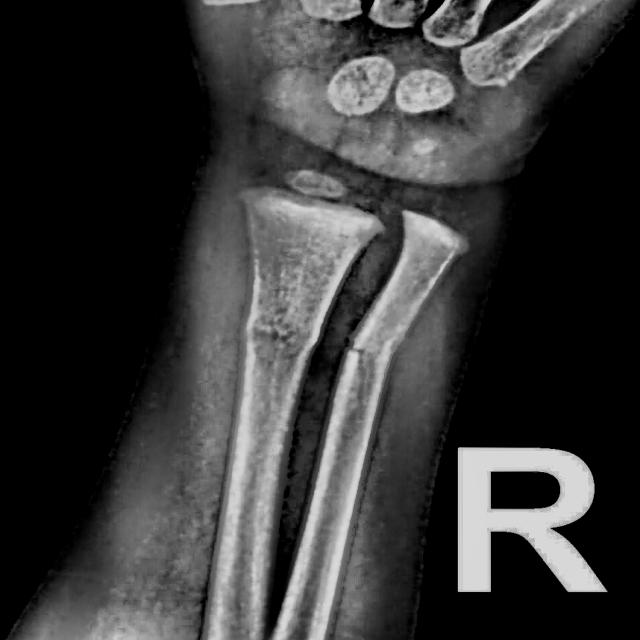angle: (343, 336, 370, 359)
line: (239, 314, 303, 348)
